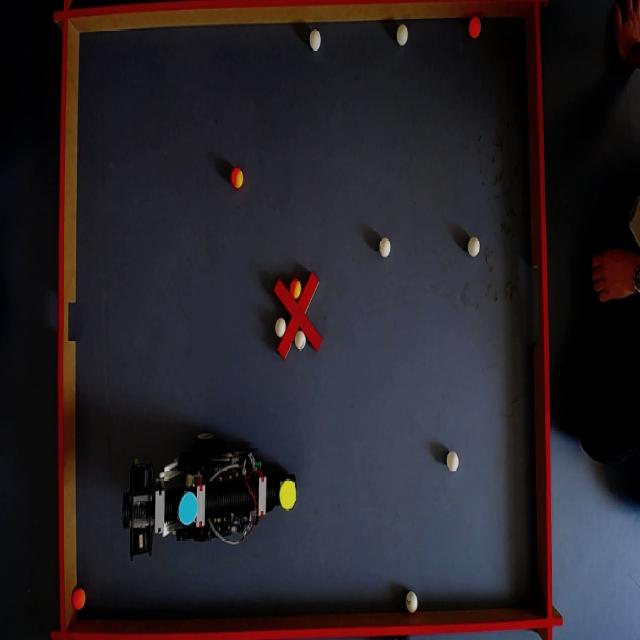orange: (466, 18, 481, 40), (290, 278, 303, 301), (231, 169, 245, 189), (74, 590, 86, 611)
robot: (116, 450, 301, 556)
robot-front: (280, 478, 296, 509)
robot-rear: (178, 492, 200, 524)
white: (395, 23, 410, 47), (308, 30, 323, 53), (404, 591, 418, 613), (469, 235, 482, 257), (447, 451, 459, 473), (294, 331, 307, 351), (379, 237, 391, 258), (274, 319, 286, 338)
